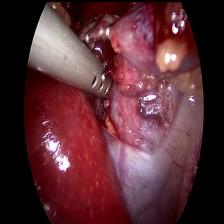Irrigator: (79, 54, 113, 106)
